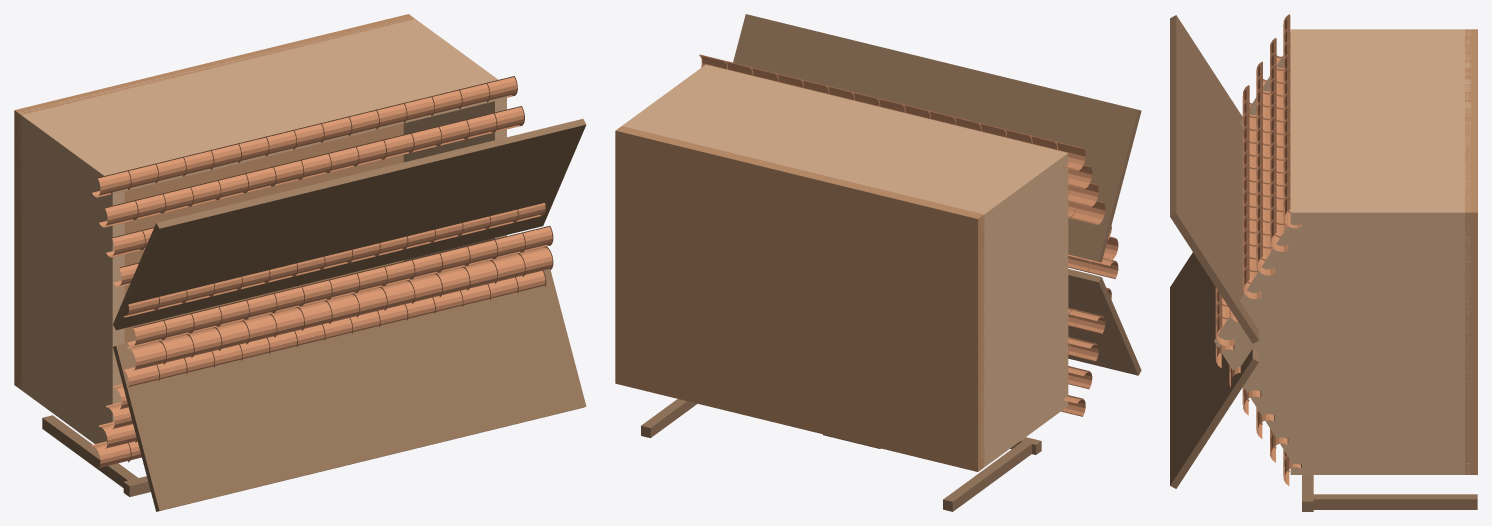
Rendered from casa_taipa_original.glb.
3 renders of one model, left to right at view 1: azimuth 30°, elevation 25°; view 2: azimuth 150°, elevation 25°; view 3: azimuth 270°, elevation 25°, orthographic. The views are drawn at different scales.
Parts seen in each view (by area): view 1: peca_007, peca_008, peca_002, peca_003, peca_000, peca_004, peca_192, peca_001, peca_009, peca_010, peca_017, peca_012 (+19 smaller); view 2: peca_000, peca_002, peca_008, peca_003, peca_007, peca_192, peca_001, peca_193; view 3: peca_004, peca_002, peca_008, peca_007, peca_006, peca_000, peca_193, peca_001, peca_194.
Boxes of the visible parts, left/top/right/bottom form: peca_007: left=113, top=269, right=586, bottom=511; peca_008: left=113, top=119, right=586, bottom=330; peca_002: left=18, top=17, right=506, bottom=194; peca_003: left=18, top=125, right=124, bottom=440; peca_000: left=14, top=14, right=414, bottom=389; peca_004: left=403, top=98, right=506, bottom=261; peca_192: left=42, top=415, right=141, bottom=487; peca_001: left=18, top=378, right=107, bottom=443; peca_009: left=127, top=341, right=166, bottom=370; peca_010: left=156, top=334, right=194, bottom=362; peca_017: left=349, top=287, right=387, bottom=315; peca_012: left=213, top=320, right=249, bottom=350; peca_000: left=615, top=126, right=984, bottom=471; peca_002: left=622, top=64, right=1068, bottom=227; peca_008: left=733, top=14, right=1141, bottom=262; peca_003: left=981, top=165, right=1068, bottom=457; peca_007: left=1068, top=269, right=1141, bottom=375; peca_192: left=943, top=441, right=1034, bottom=511; peca_001: left=981, top=395, right=1068, bottom=468; peca_193: left=641, top=399, right=697, bottom=437; peca_004: left=1290, top=224, right=1471, bottom=462; peca_002: left=1290, top=29, right=1471, bottom=224; peca_008: left=1170, top=15, right=1258, bottom=343; peca_007: left=1170, top=252, right=1258, bottom=488; peca_006: left=1214, top=226, right=1290, bottom=459; peca_000: left=1465, top=29, right=1477, bottom=474; peca_193: left=1313, top=494, right=1477, bottom=509; peca_001: left=1290, top=463, right=1470, bottom=474; peca_194: left=1302, top=475, right=1313, bottom=511.
Size of the model in its own units: 6.5 by 4.86 by 4.26.
